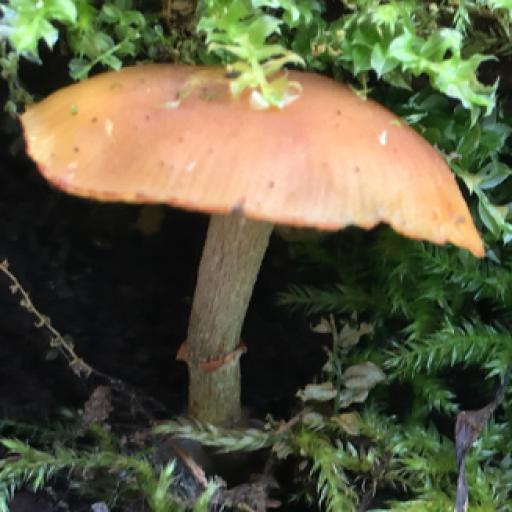mushroom: (11, 57, 494, 371)
